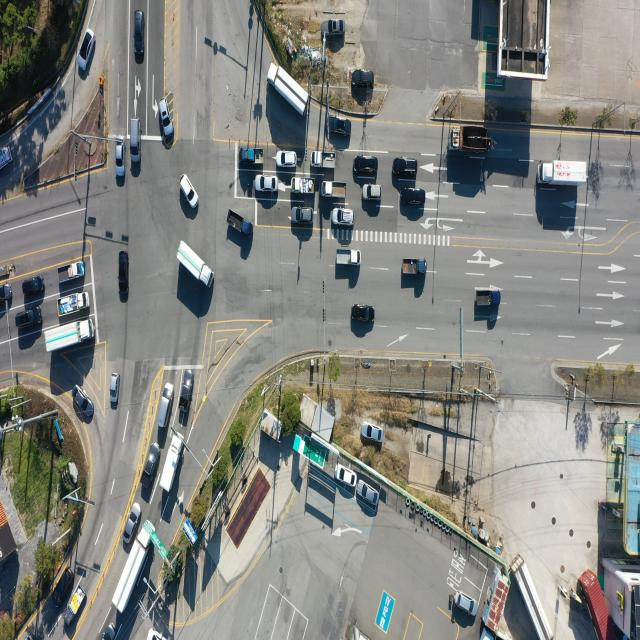car: (124, 504, 143, 544), (77, 28, 94, 72), (72, 382, 94, 416), (156, 381, 172, 426), (180, 371, 196, 411), (454, 591, 478, 617), (328, 111, 350, 139), (180, 174, 198, 208), (14, 308, 41, 330), (160, 97, 175, 136), (144, 442, 158, 482), (358, 482, 379, 508), (130, 117, 142, 162), (402, 185, 425, 208), (336, 463, 358, 487), (394, 158, 419, 178), (23, 276, 46, 296), (354, 156, 378, 175), (350, 305, 374, 324), (114, 138, 124, 181), (256, 175, 280, 192), (362, 423, 383, 442), (333, 208, 355, 226), (118, 250, 127, 294), (352, 68, 373, 86), (136, 10, 144, 56), (276, 150, 297, 167), (292, 207, 312, 224), (327, 18, 348, 34), (364, 184, 384, 200), (110, 373, 119, 407), (0, 283, 13, 302), (102, 623, 116, 640), (146, 628, 163, 640)
medium_truck: (115, 519, 156, 614), (517, 554, 556, 638), (268, 61, 308, 118), (45, 318, 96, 356), (178, 242, 216, 292), (158, 433, 184, 495), (539, 162, 589, 188), (451, 129, 494, 155)
small_truck: (65, 584, 86, 623), (58, 292, 89, 317), (56, 261, 85, 286), (228, 209, 253, 237), (311, 151, 336, 171), (476, 288, 502, 307), (336, 248, 363, 266), (323, 184, 349, 202), (240, 146, 264, 164), (404, 260, 428, 278), (292, 179, 314, 197), (0, 147, 13, 174), (481, 626, 495, 640)
